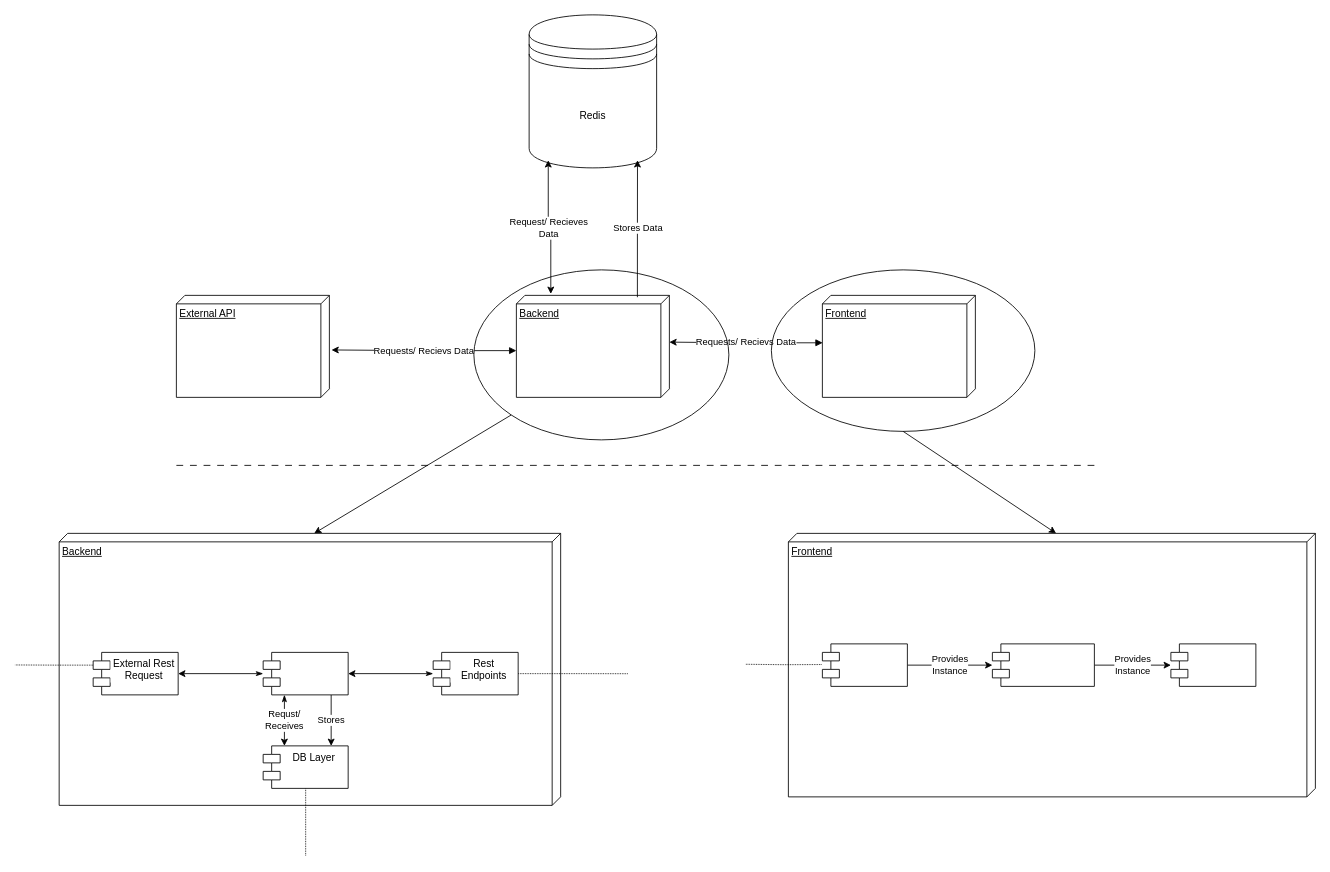
This 1330x872 diagram has some shape labels left out. Here are the shapes that lost their labels. From the top down, the box of each, then its label:
(262, 652, 348, 695): Request handlers
(822, 643, 907, 686): Rest Request
(992, 643, 1094, 686): Provider
(1170, 643, 1256, 686): Frontend Widgets
